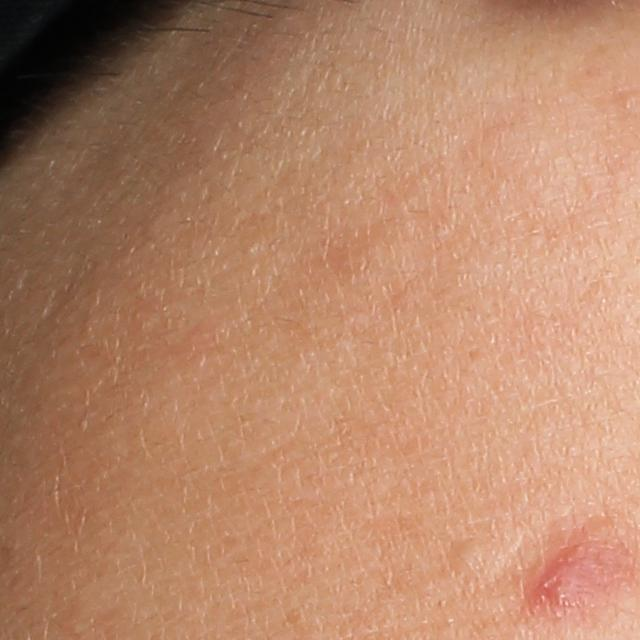comedo: (618, 90, 637, 111)
papule: (520, 533, 636, 622)
